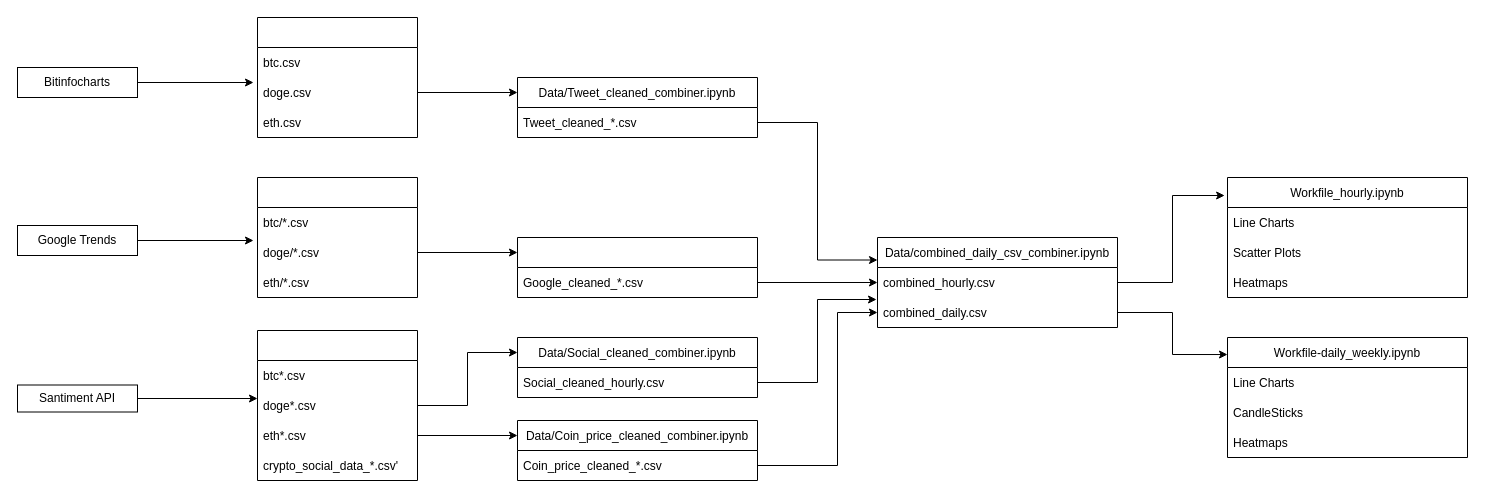
Some shapes in this 1485 by 498 pixel diagram are drawn without their labels. Each missing label, with the box of its shape:
Data/Data_Coin_price/ Data_Coin_price.ipynb: (256, 330, 418, 480)
Data/Data_Google_trends/ csv_generator.ipnb: (256, 176, 418, 298)
Data/Data_Tweet_counts/ bitinfochart.ipynb: (256, 16, 418, 138)
Data/Google_cleaned_combiner.ipynb: (516, 236, 758, 298)
